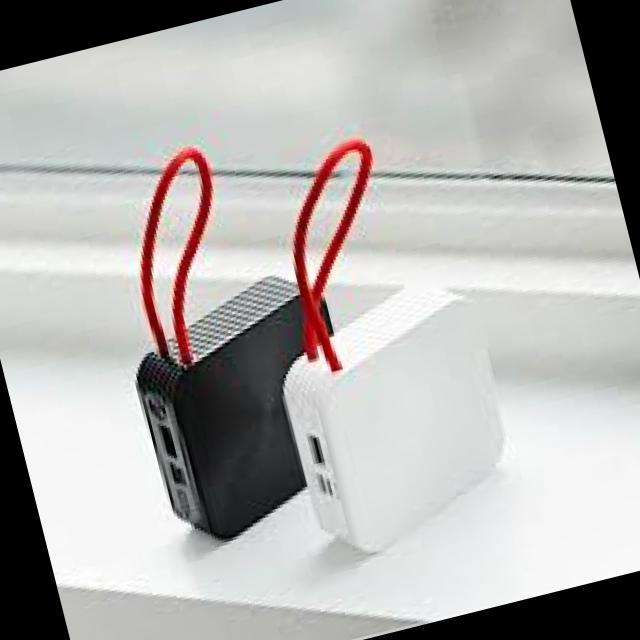power_bank: (264, 266, 530, 564), (116, 260, 376, 554)
